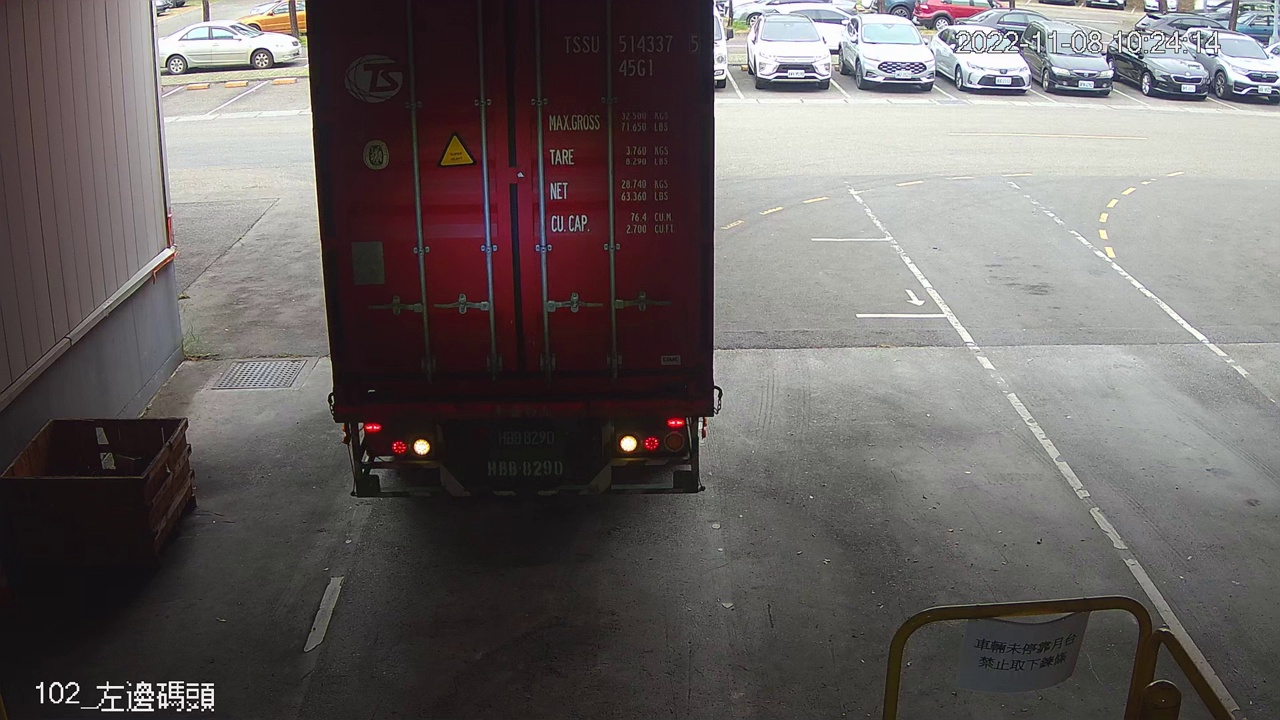container: (557, 23, 707, 84)
